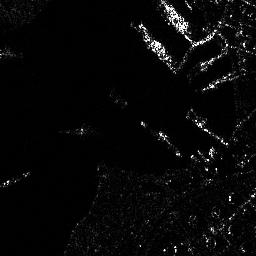ship: (137, 22, 174, 63), (162, 1, 190, 31)
